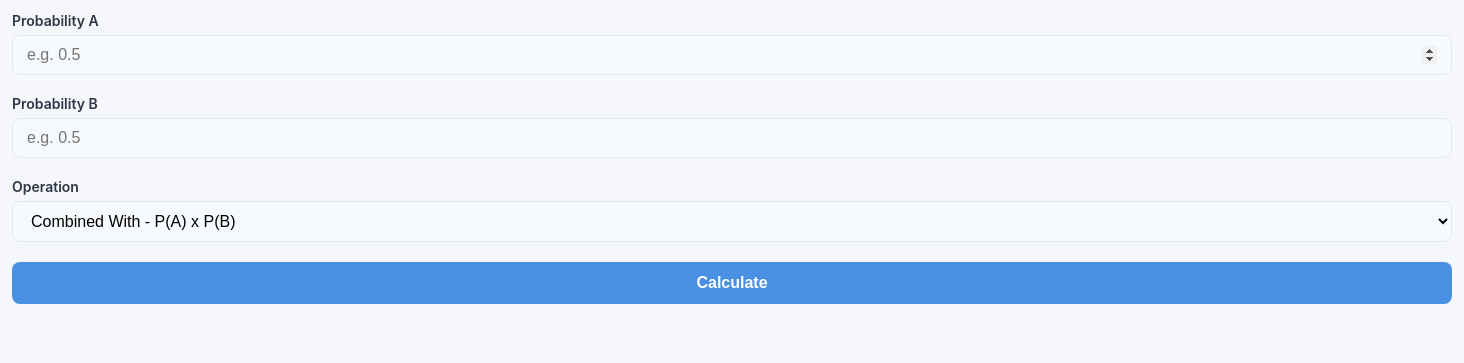
Test: CalculatorForm › shows validation error when probability is missing
The image size is (1464, 363).
Click the button "Calculate" at {"x": 732, "y": 283}, box top-left (12, 262), bottom-right (1452, 304)
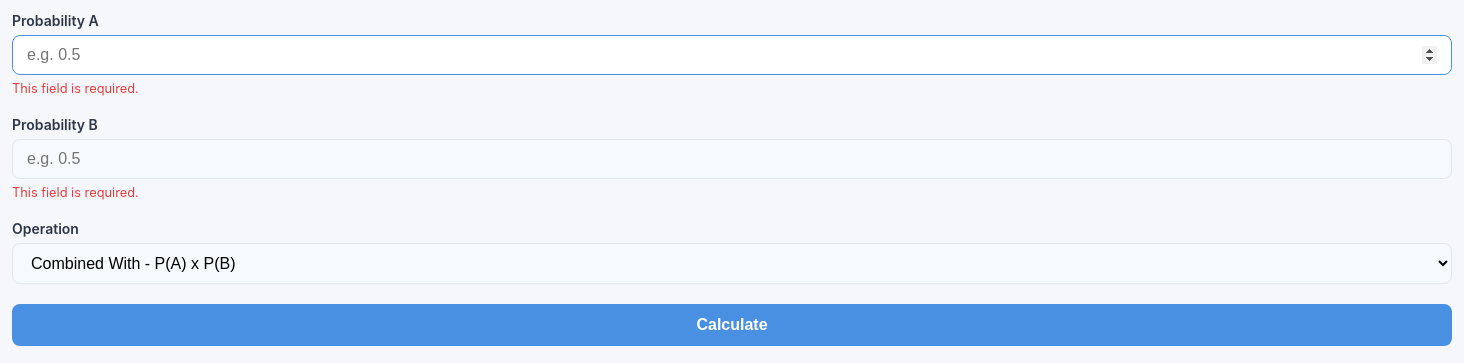
Now the text "This field is required." below "Probability A" is shown, box top-left (12, 81), bottom-right (139, 96)
